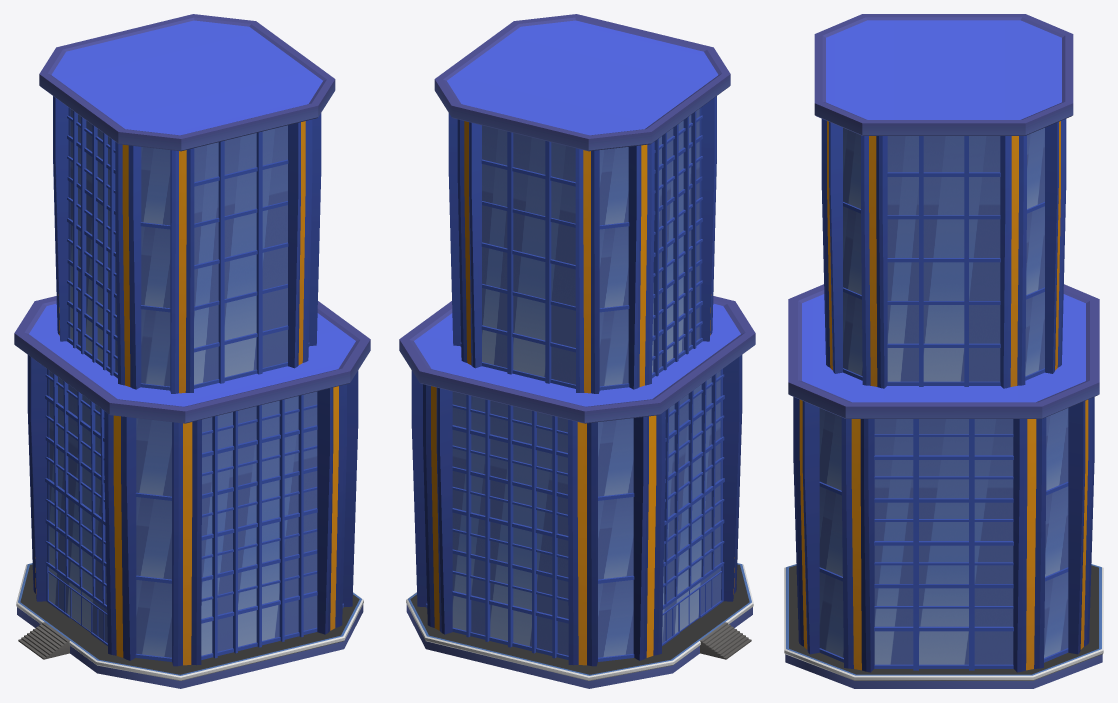
The model's file is Building_7_2_A.fbx.
3 renders of one model, left to right at view 1: azimuth 30°, elevation 25°; view 2: azimuth 150°, elevation 25°; view 3: azimuth 270°, elevation 25°, orthographic. The views are drawn at different scales.
Visible parts, largest first — view 1: Building_7_2_A; view 2: Building_7_2_A; view 3: Building_7_2_A.
Boxes of the visible parts, x1,y1,x2,y2 form: Building_7_2_A: [14, 14, 370, 688]; Building_7_2_A: [399, 14, 755, 688]; Building_7_2_A: [784, 14, 1103, 688].
Size of the model in its own units: 2520 by 4418 by 2311.
